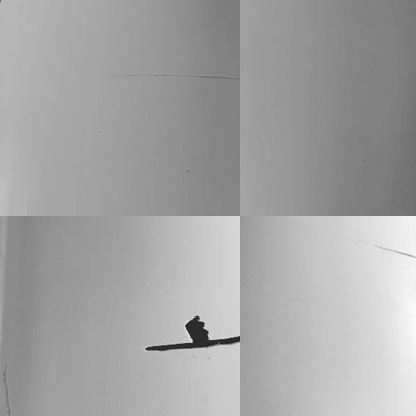fengxi: (146, 338, 240, 353)
kongdong: (183, 313, 210, 339)
